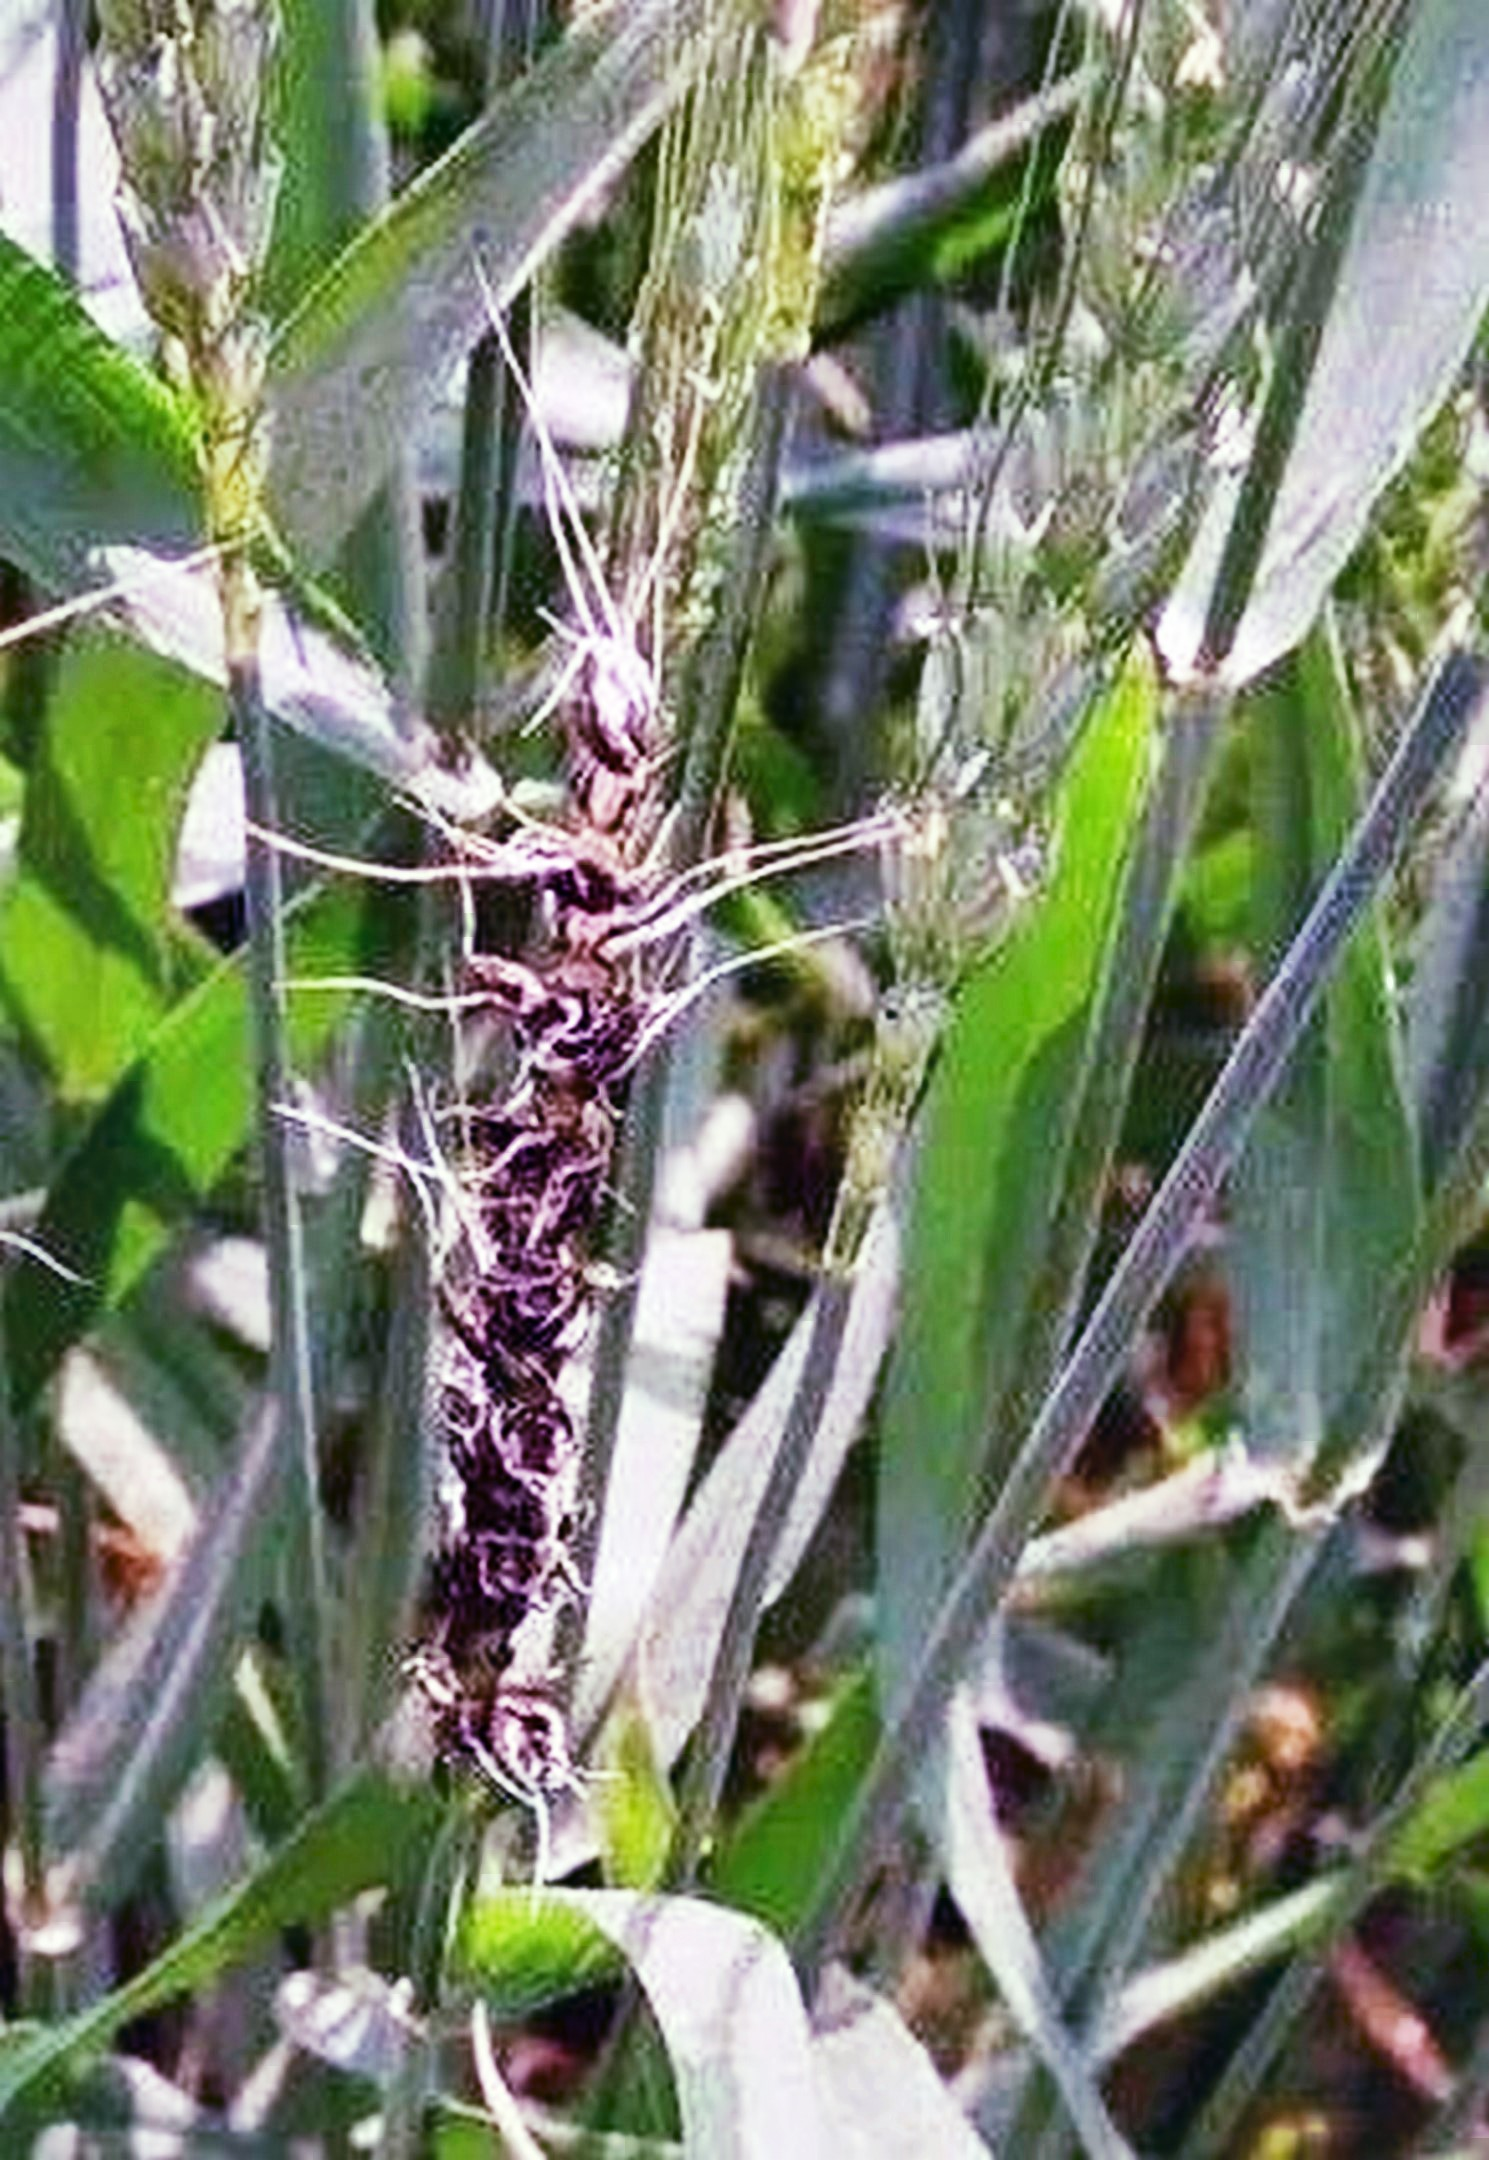Wheat Loose Smut: (387, 691, 717, 1745)
